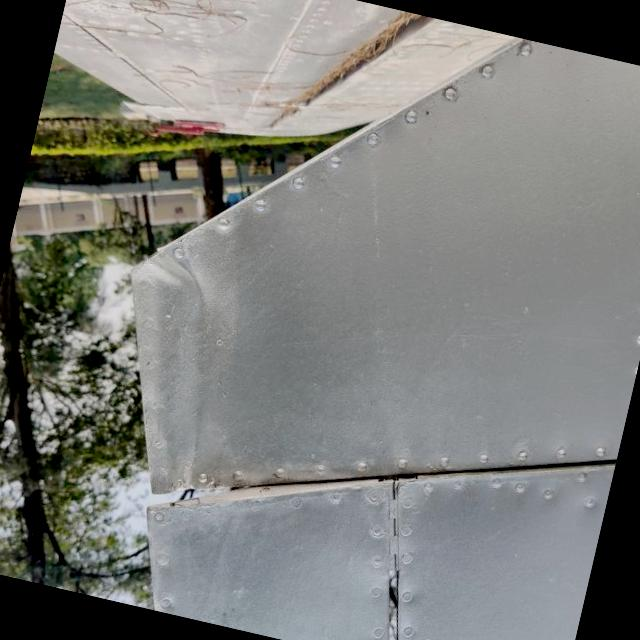dent: (126, 228, 235, 324)
